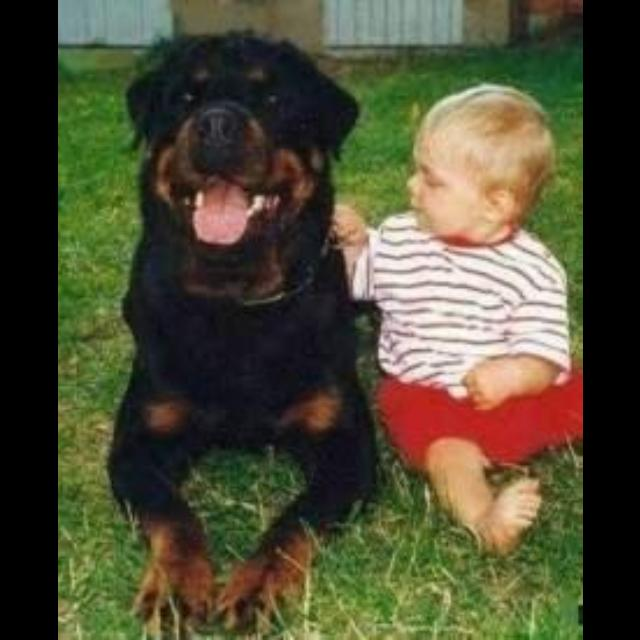face: (406, 123, 532, 249)
person: (331, 83, 582, 560)
rottweiler: (105, 30, 379, 639)
